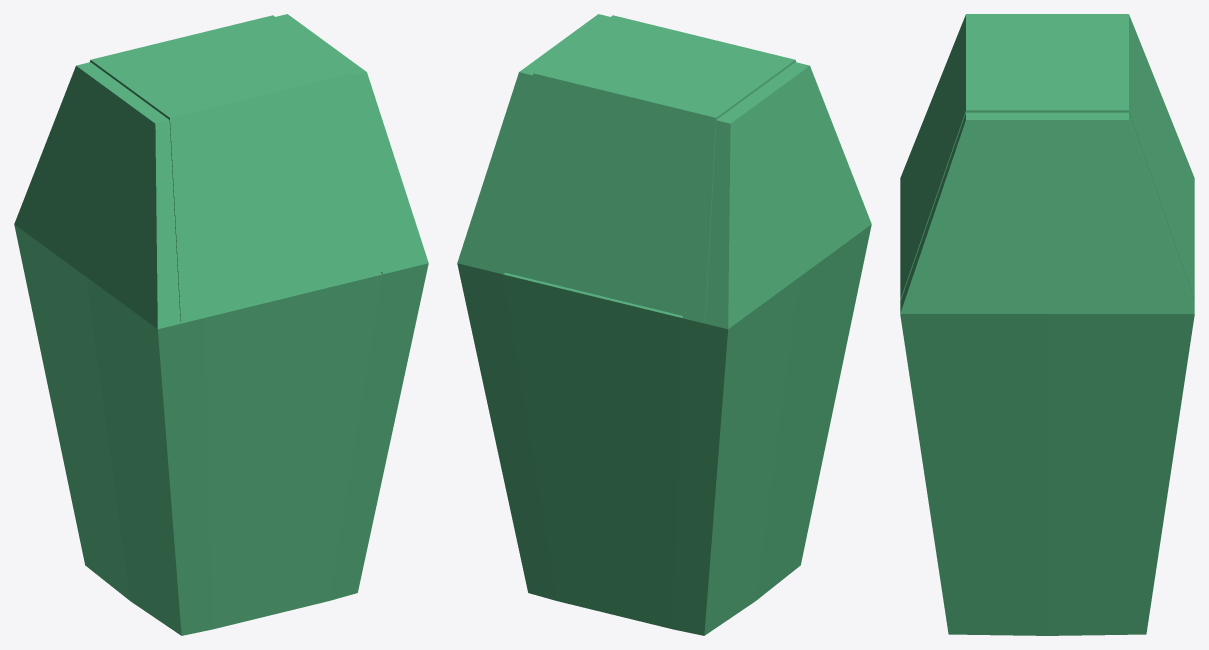
The model's file is Cocina tacho basura.fbx.
3 views of the same model, side by side, from view 1: azimuth 30°, elevation 25°; view 2: azimuth 150°, elevation 25°; view 3: azimuth 270°, elevation 25° (orthographic). The views are drawn at different scales.
Visible parts, largest first — view 1: Cocina Cesto basura; view 2: Cocina Cesto basura; view 3: Cocina Cesto basura.
Part boxes in pixels (<box>): Cocina Cesto basura: <box>14,14,428,635</box>; Cocina Cesto basura: <box>457,14,871,635</box>; Cocina Cesto basura: <box>900,14,1194,635</box>.
Bounding box in the file's own units: 31.06 × 56.16 × 28.51.
